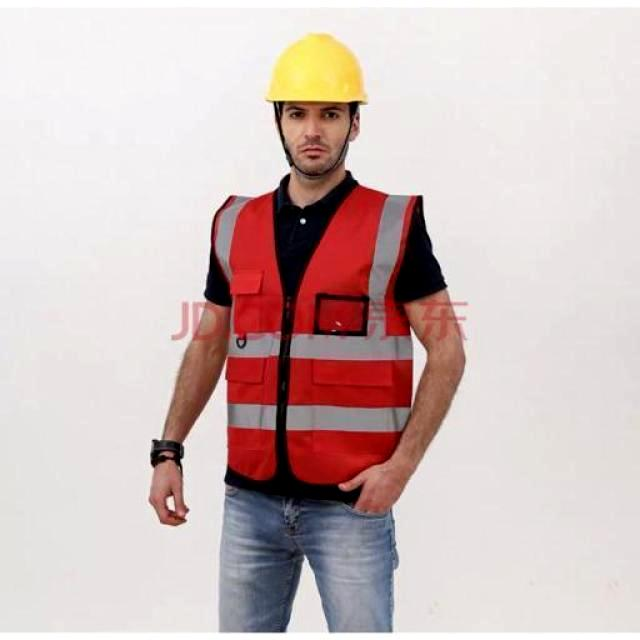hard_hat: (265, 32, 366, 102)
person: (139, 30, 479, 635)
